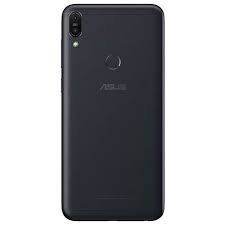asus: (55, 1, 167, 221)
